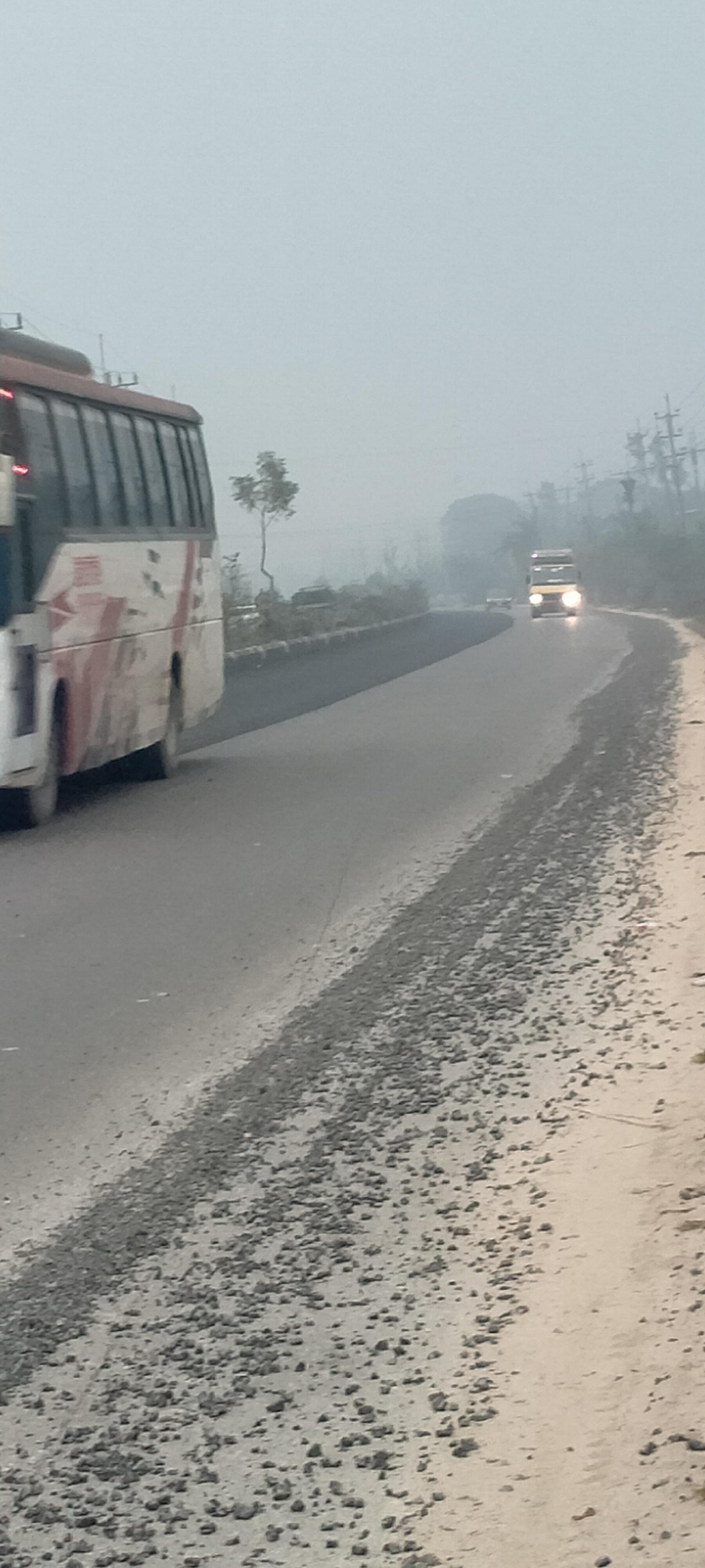Bus: (5, 323, 255, 829)
Car: (475, 576, 515, 622)
Truck: (521, 529, 600, 637)
